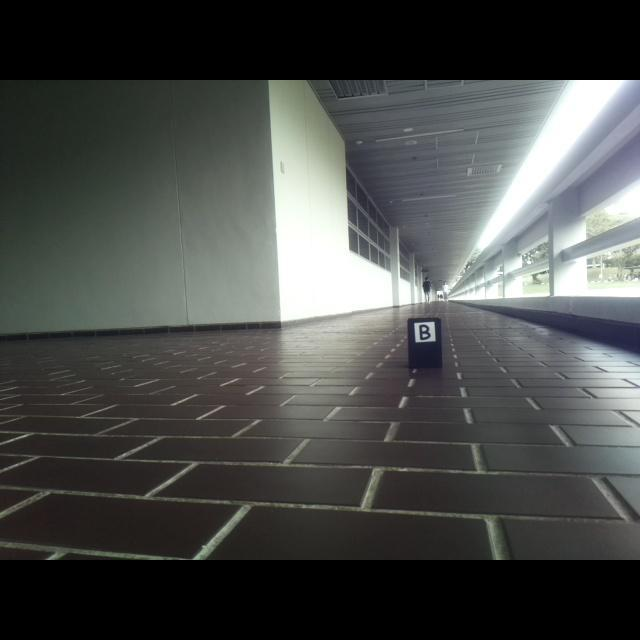B: (418, 324, 431, 341)
